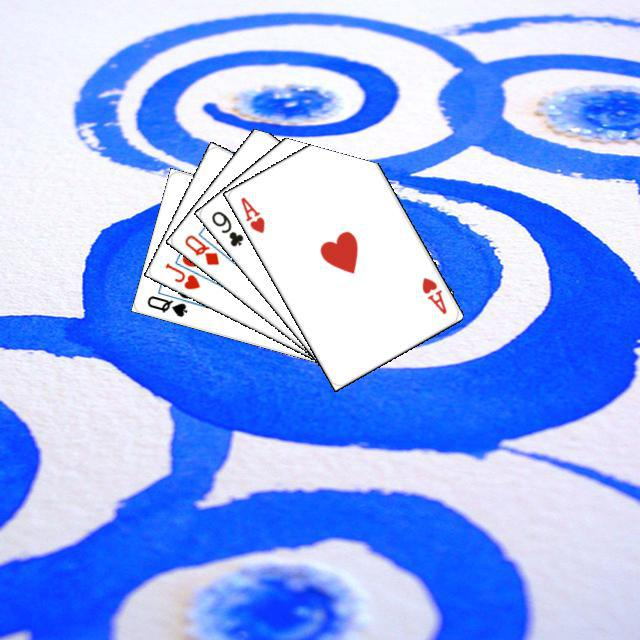9c: (206, 206, 245, 248)
Ah: (235, 192, 267, 235), (417, 272, 448, 316)
Jh: (160, 258, 202, 291)
Qd: (179, 230, 221, 267)
Qs: (142, 290, 189, 319)
